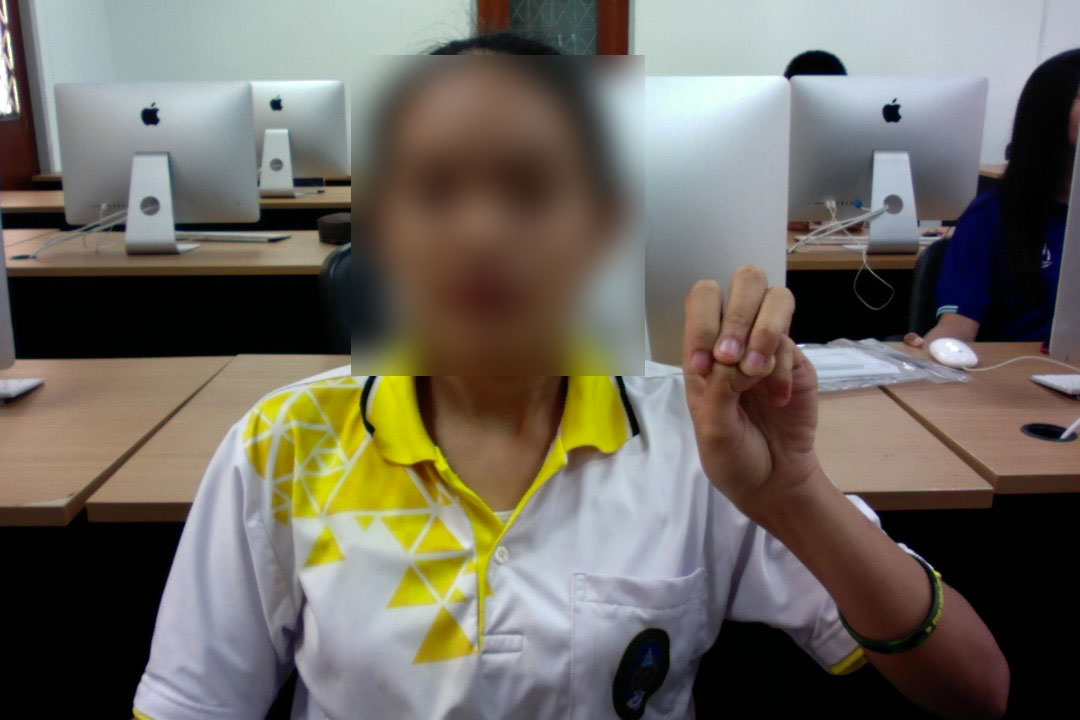mor: (679, 253, 830, 504)
